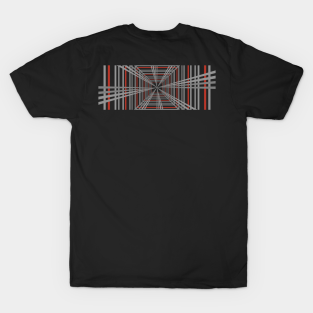design: (96, 62, 218, 112)
